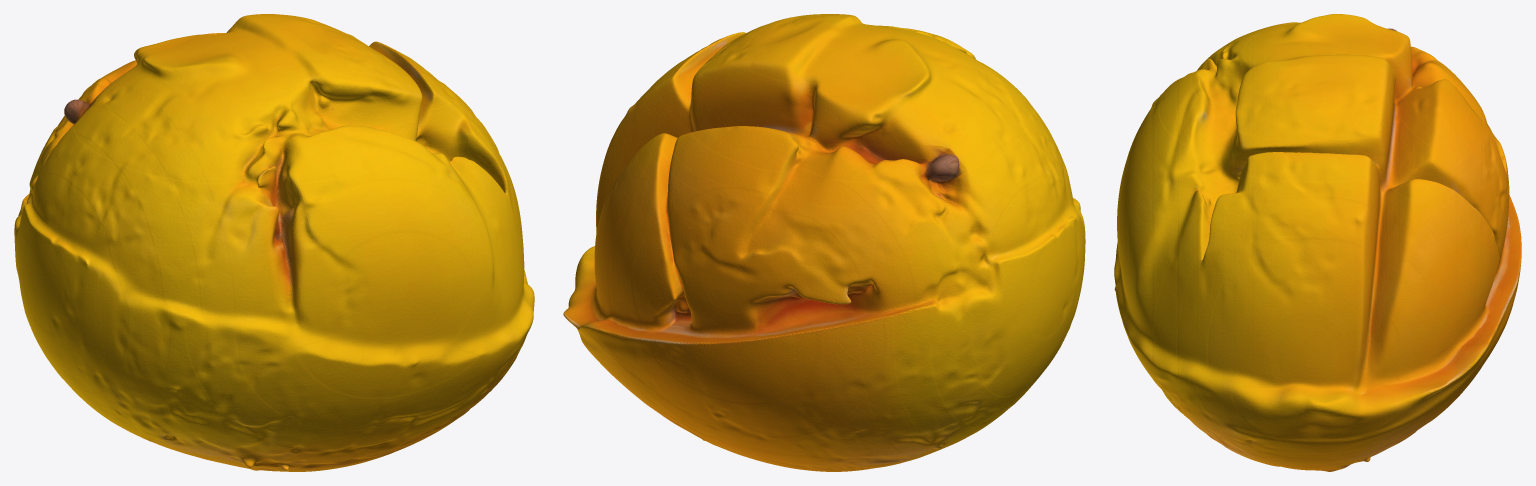
Rendered from scoop_mango.glb.
The picture shows the model from 3 angles, left to right: view 1: azimuth 30°, elevation 25°; view 2: azimuth 150°, elevation 25°; view 3: azimuth 270°, elevation 25°; orthographic projection. The views are drawn at different scales.
Visible parts, largest first — view 1: tripo_node_67892dcf-7ca8-4a35-9329-530d63d25cb8; view 2: tripo_node_67892dcf-7ca8-4a35-9329-530d63d25cb8; view 3: tripo_node_67892dcf-7ca8-4a35-9329-530d63d25cb8.
Boxes of the visible parts, left/top/right/bottom form: tripo_node_67892dcf-7ca8-4a35-9329-530d63d25cb8: left=14, top=14, right=534, bottom=471; tripo_node_67892dcf-7ca8-4a35-9329-530d63d25cb8: left=563, top=14, right=1085, bottom=471; tripo_node_67892dcf-7ca8-4a35-9329-530d63d25cb8: left=1114, top=14, right=1521, bottom=471.
Size of the model in its own units: 1 by 0.8481 by 0.8309.
1 material, 1 textured.
